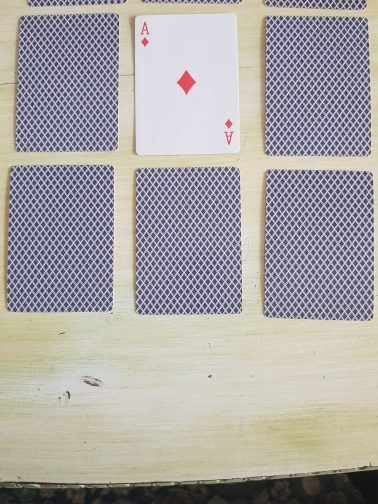ace: (133, 12, 242, 156)
